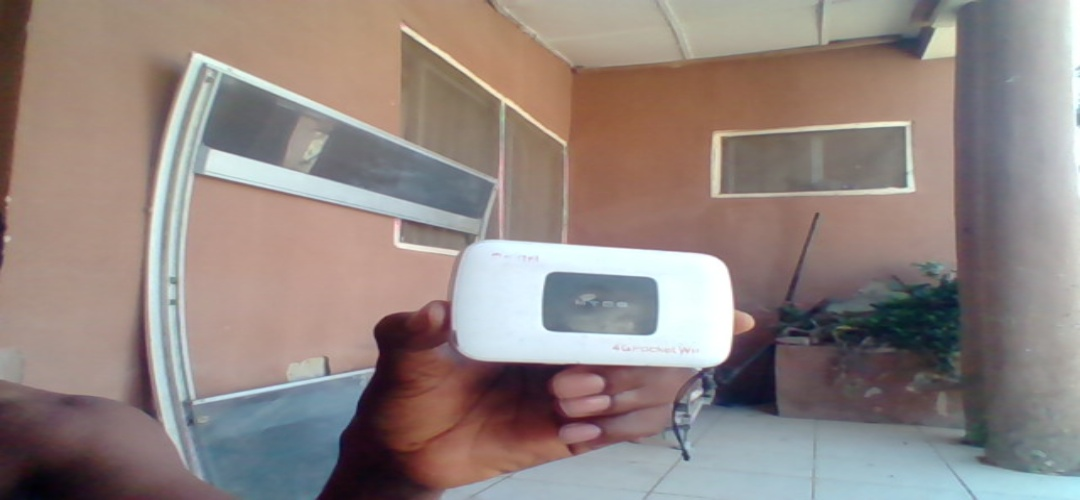mifi: (448, 236, 737, 369)
